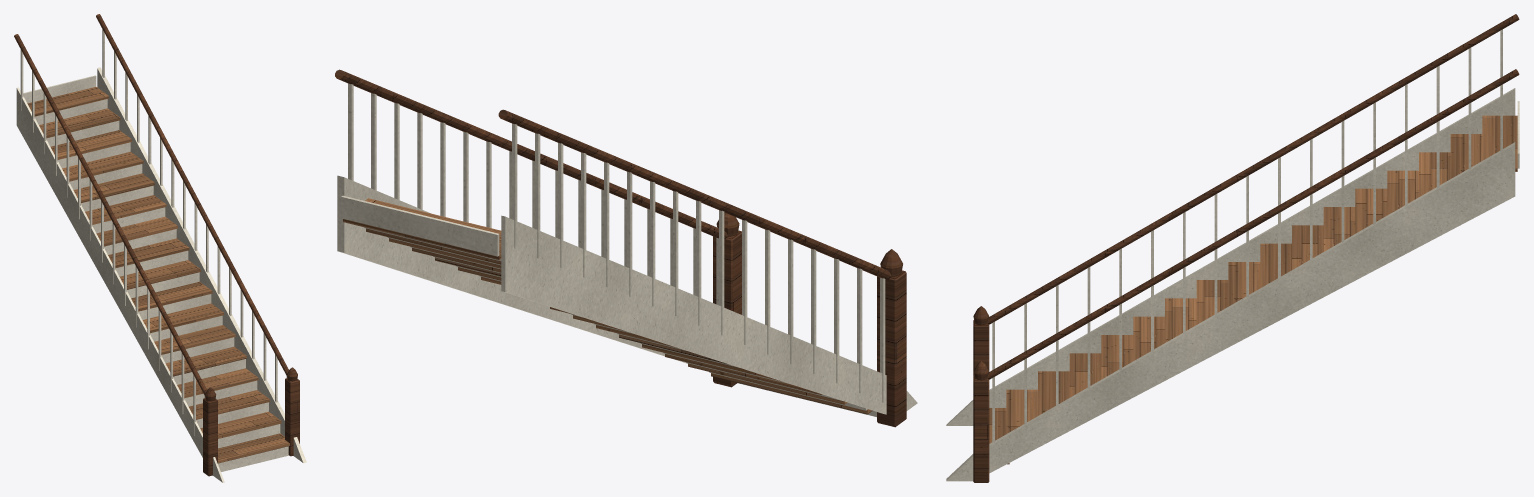
File: stair_both.glb
The picture shows the model from 3 angles, left to right: view 1: azimuth 30°, elevation 25°; view 2: azimuth 150°, elevation 25°; view 3: azimuth 270°, elevation 25°; orthographic projection. The views are drawn at different scales.
Parts seen in each view (by area): view 1: stair_both_trim, stair_both_floor, stair_both_wood; view 2: stair_both_trim, stair_both_wood, stair_both_floor; view 3: stair_both_trim, stair_both_floor, stair_both_wood.
Part boxes in pixels (bbox=[...]): stair_both_trim: bbox=[16, 29, 306, 482]; stair_both_floor: bbox=[27, 87, 289, 463]; stair_both_wood: bbox=[14, 14, 299, 476]; stair_both_trim: bbox=[337, 83, 917, 416]; stair_both_wood: bbox=[335, 69, 906, 427]; stair_both_floor: bbox=[343, 198, 872, 414]; stair_both_trim: bbox=[946, 29, 1519, 481]; stair_both_floor: bbox=[989, 115, 1517, 464]; stair_both_wood: bbox=[973, 14, 1519, 482].
Size of the model in its own units: 1.29 by 4 by 5.06.
3 materials, 3 textured.
